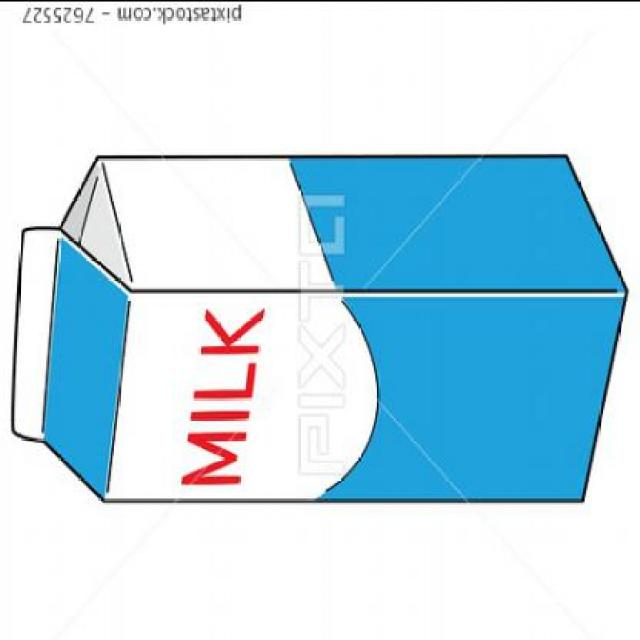non_white_jug: (0, 127, 638, 521)
